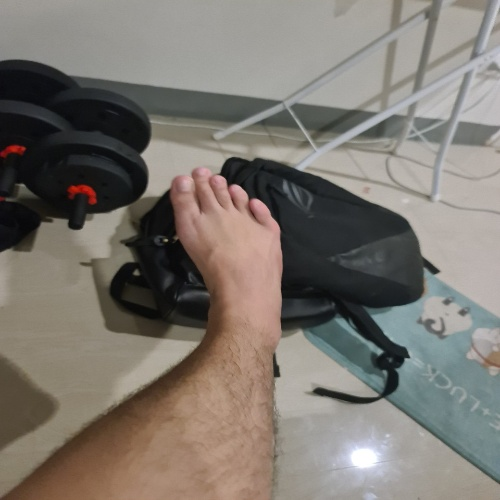3: (168, 175, 200, 223)
Top_Foot: (172, 167, 284, 352)
